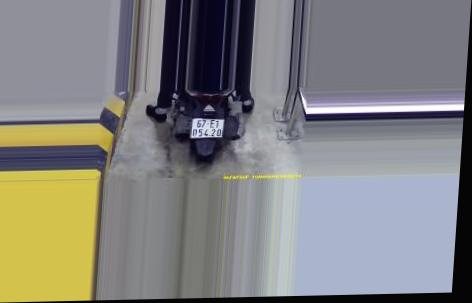License_Plate: (190, 115, 224, 141)
